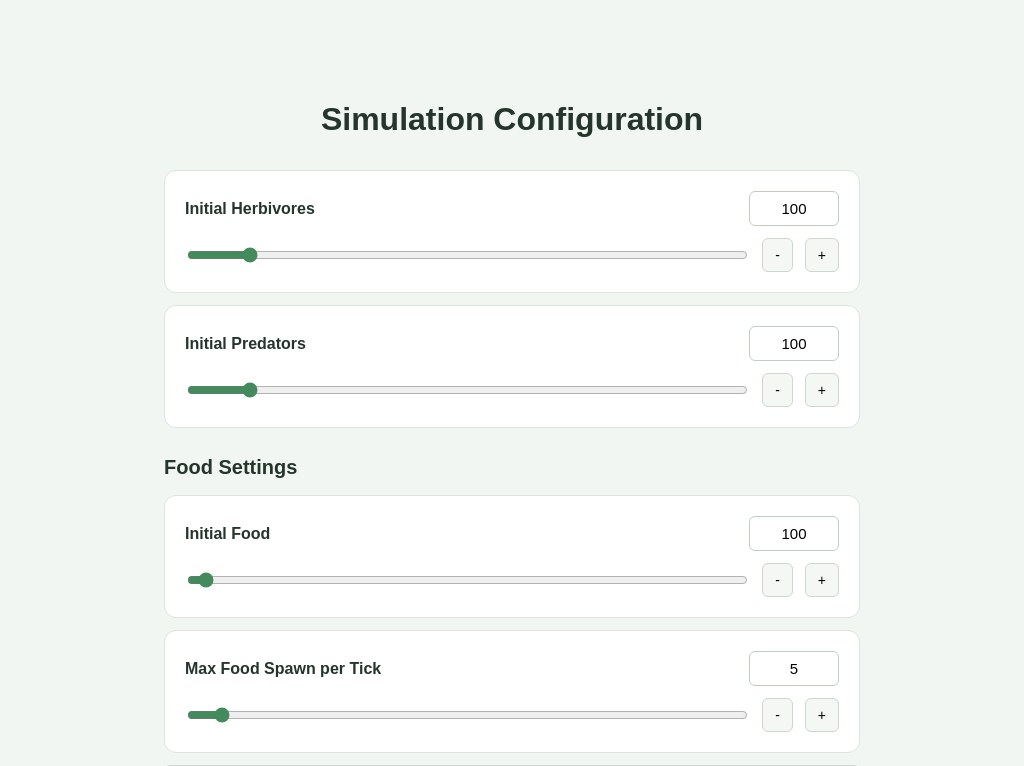
Test: ConfigurationPage › shows an error when submitting an empty field
Clear the field labelled "Initial Herbivores" at (794, 209), box [749,191,839,226]
(page scrolled)
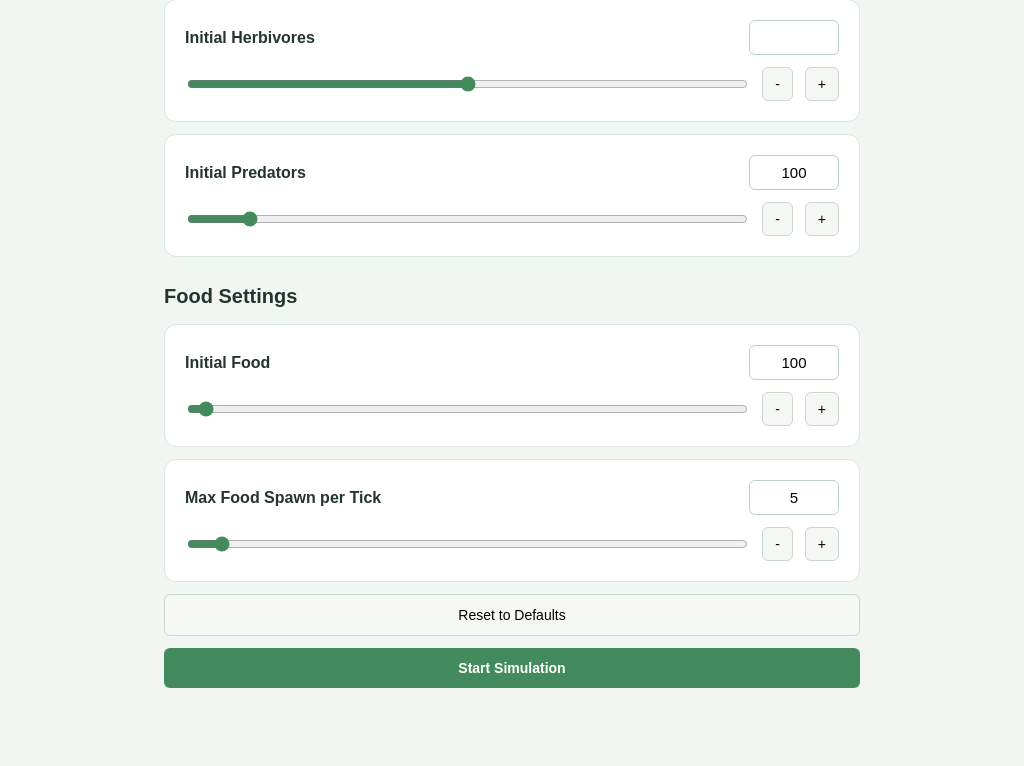
Click the button "Start Simulation" at (512, 668), box [164,648,860,688]
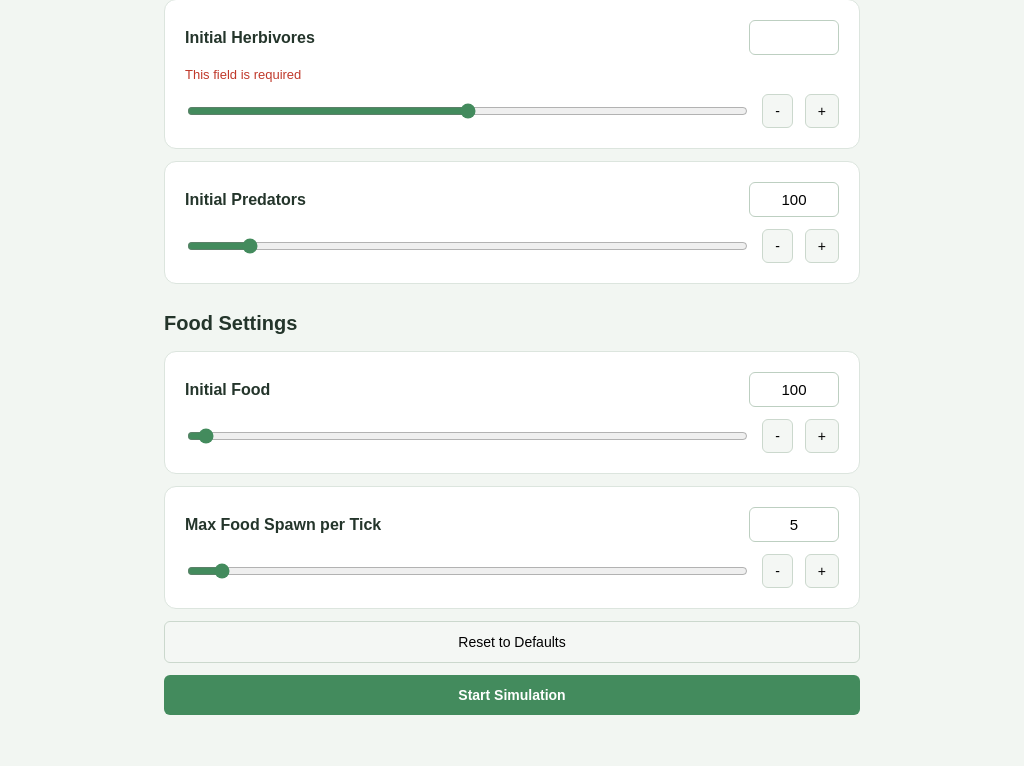
Now the message reads "This field is required", box [185,67,301,82]
